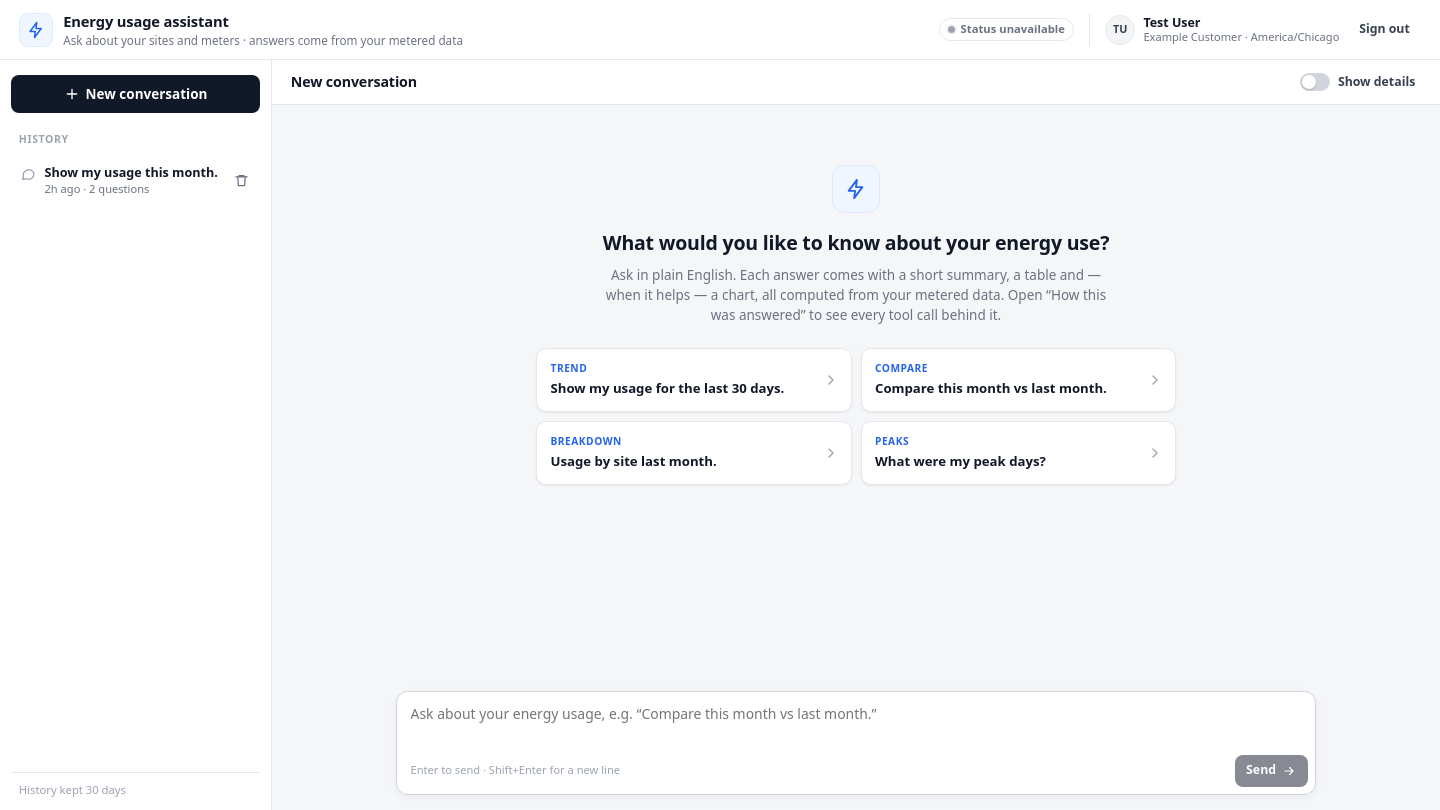
Test: conversation history › shows a friendly message and drops the conversation on 404
Click the button "Show my usage this month. 2h ago · 2 questions" at (119, 181), box [11,156,226,205]
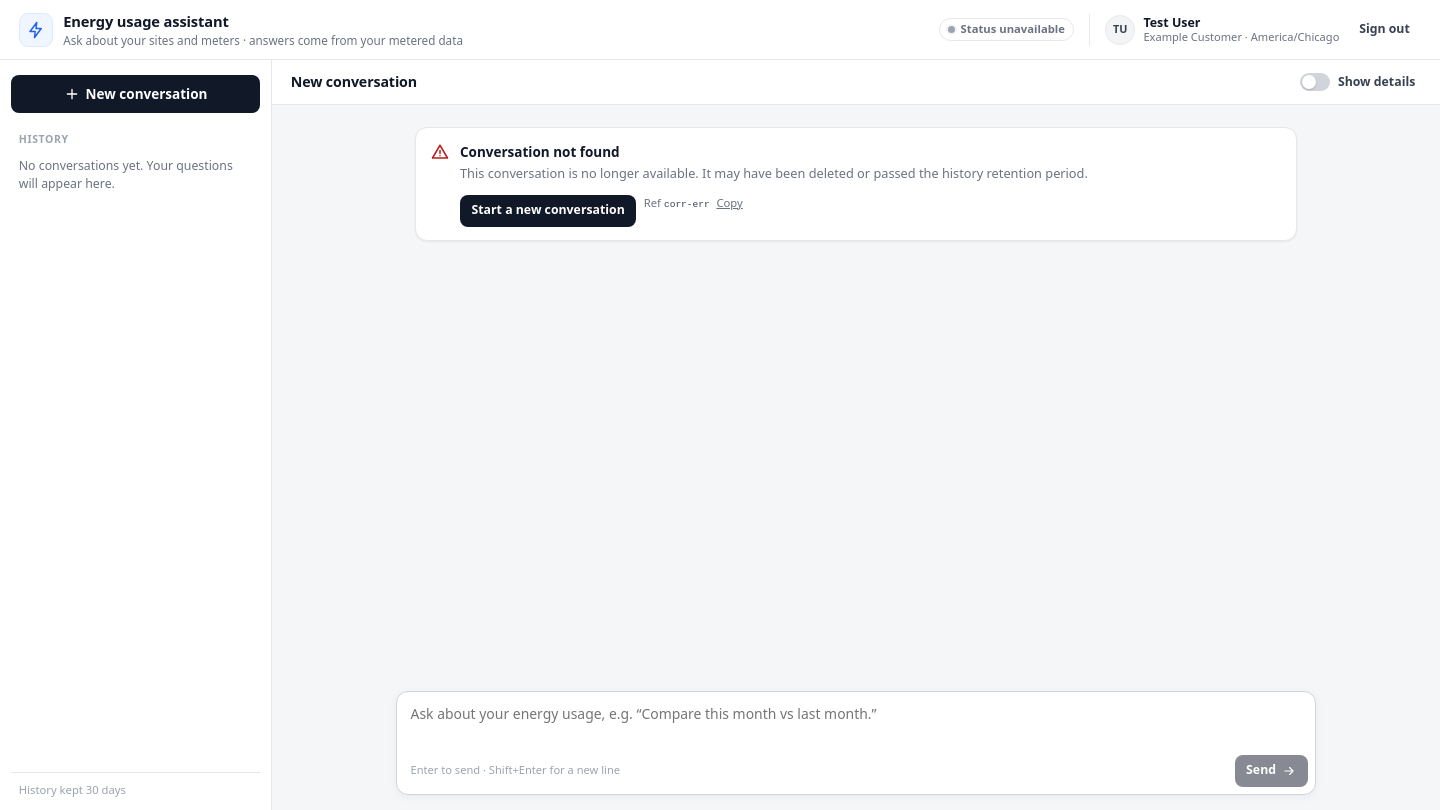
Result: the message shows "Conversation not found" at [460,143,620,161]
Result: the message shows "no longer available" at [460,164,1088,182]
Result: the button "Show my usage this month" is gone
Click the button "Start a new conversation" at (548, 211), box [460,195,636,227]
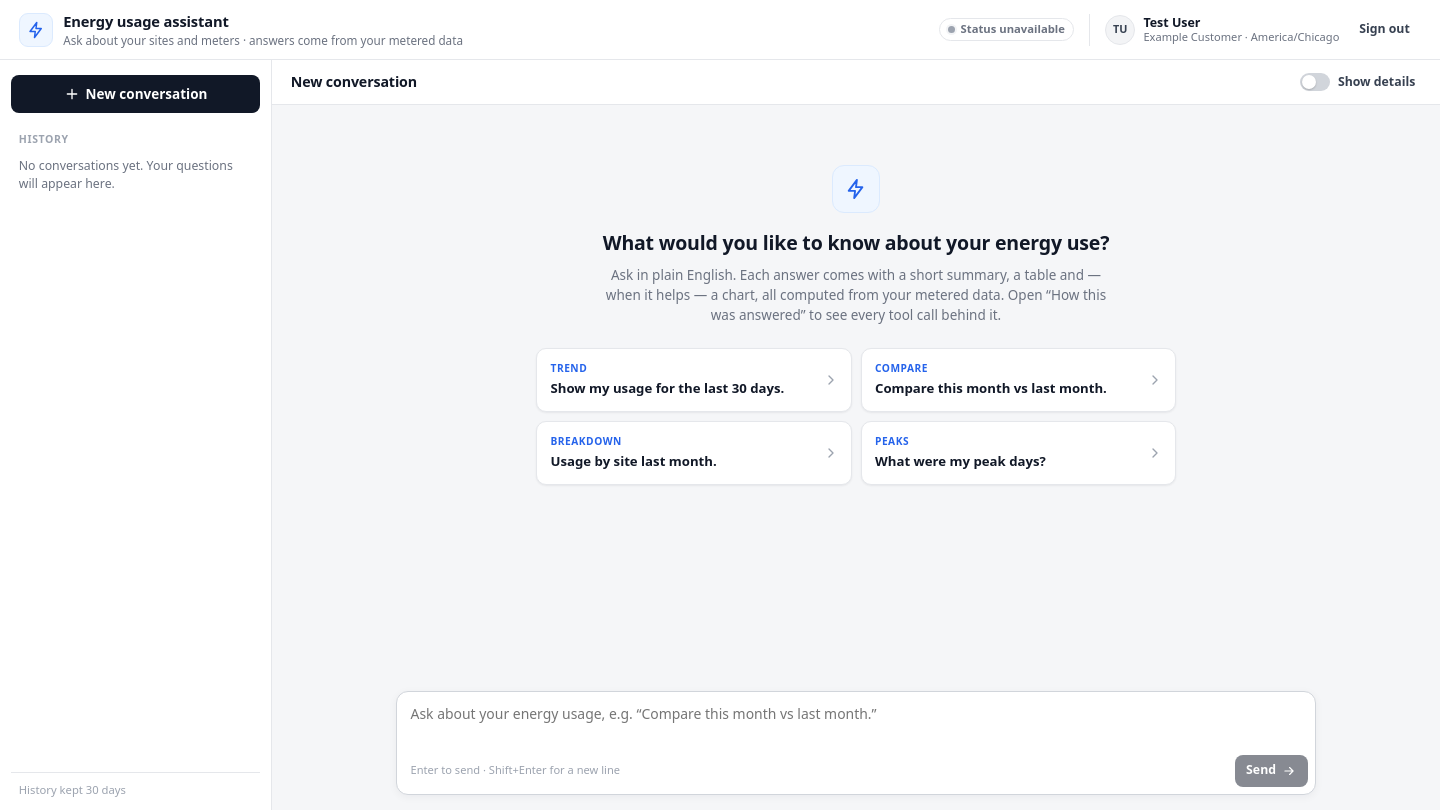
Result: the heading "What would you like to know about your energy use?" is shown at [603,229,1109,256]
